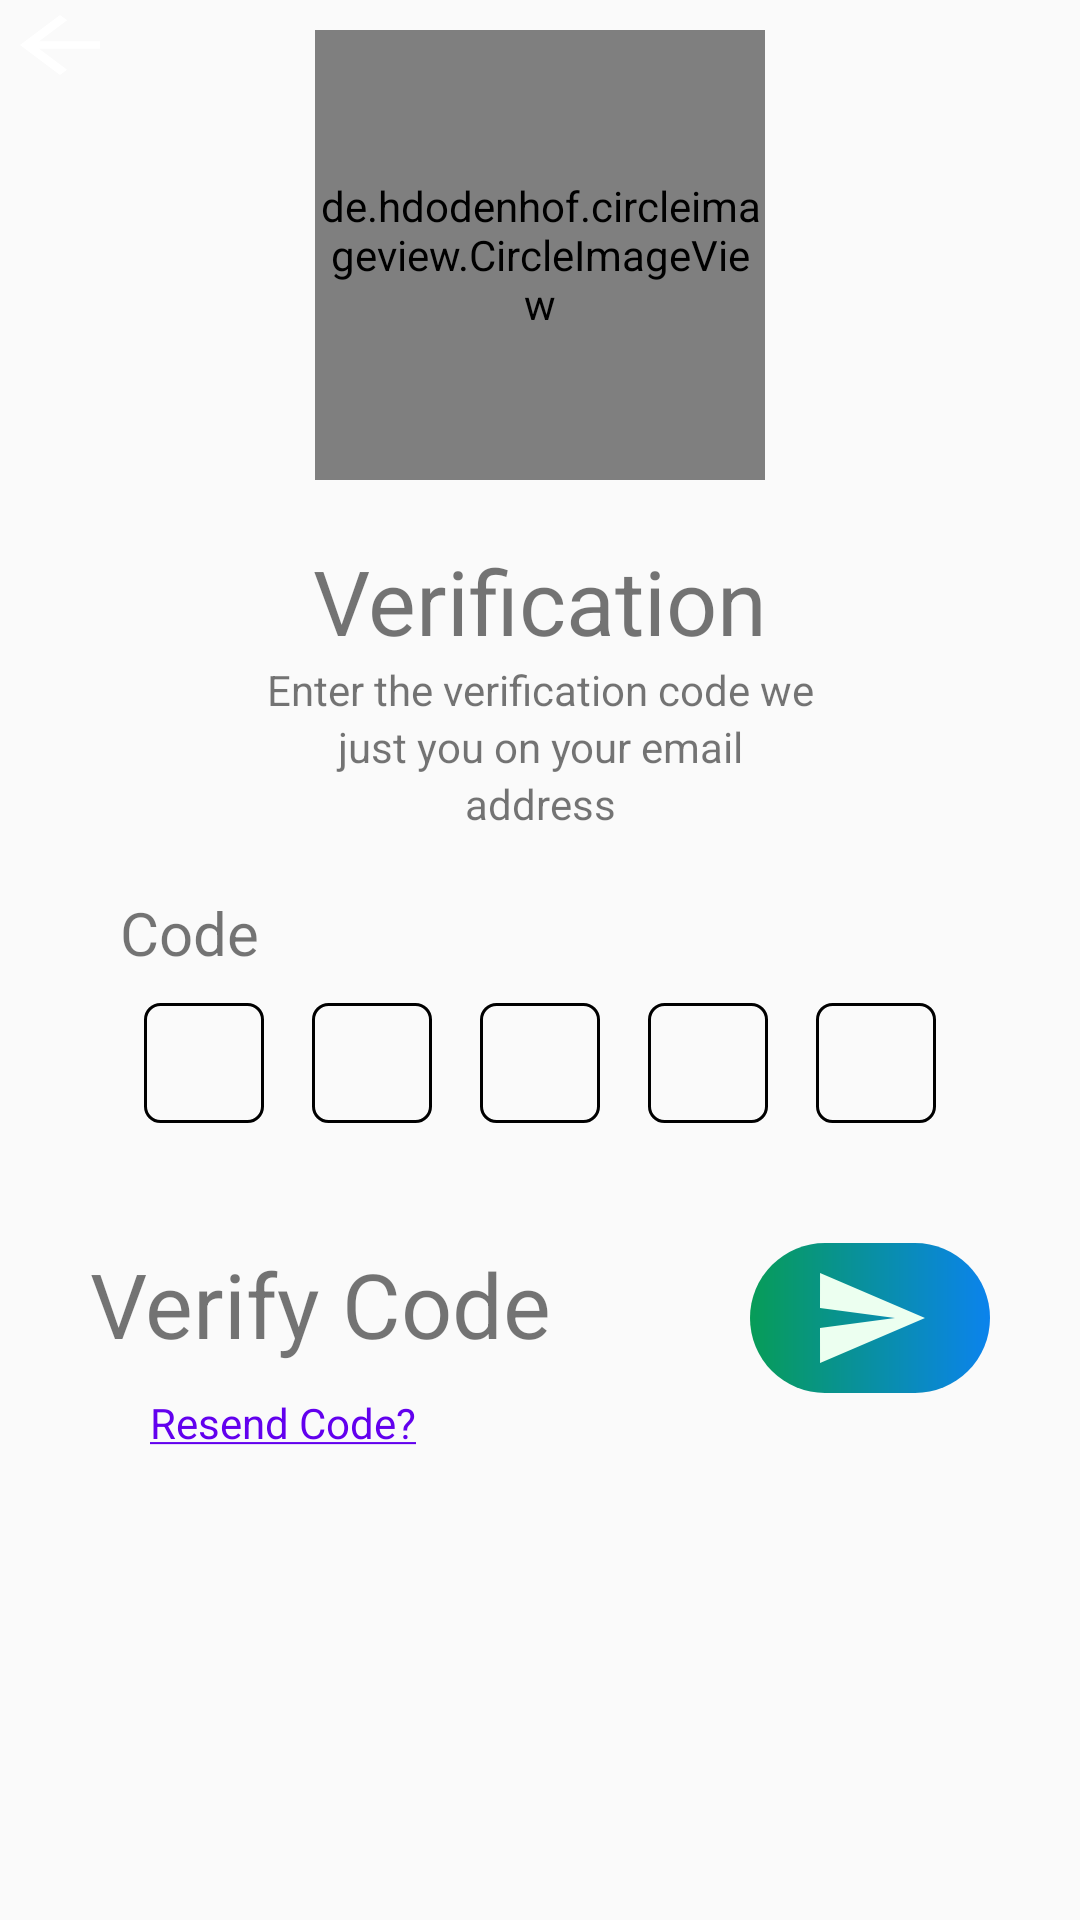

Icon click points for this 1080px x 1920px phone screenshot, format (x=x, y=y):
send: (x=870, y=1318)
